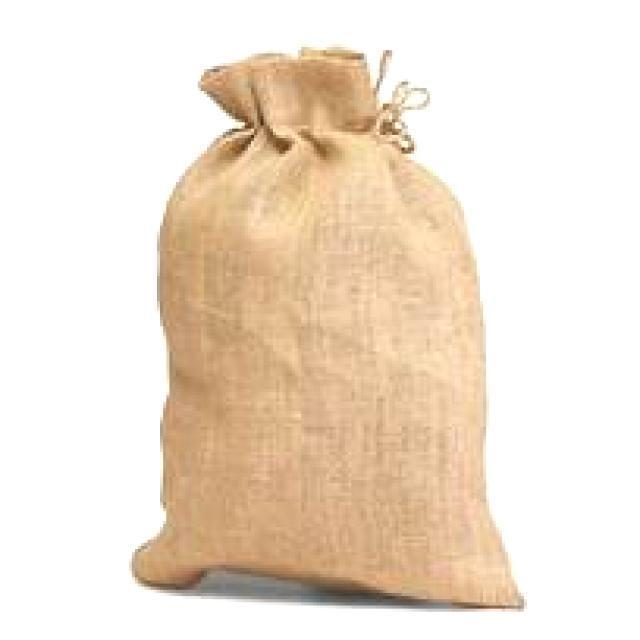gunny_bag: (138, 44, 524, 605)
